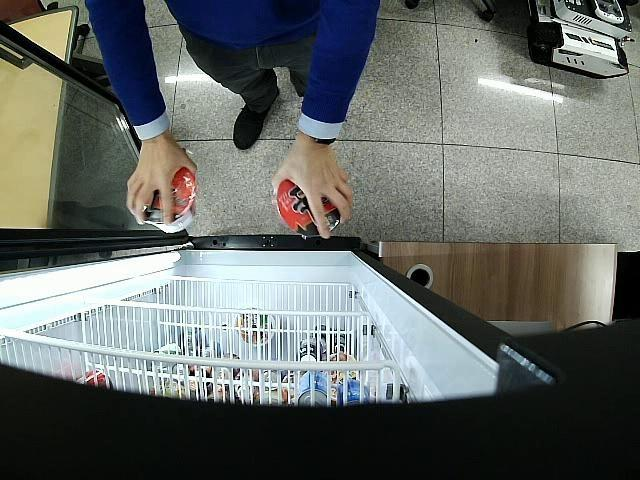01_ShinRamen_L: (146, 165, 198, 234), (278, 179, 340, 236)
